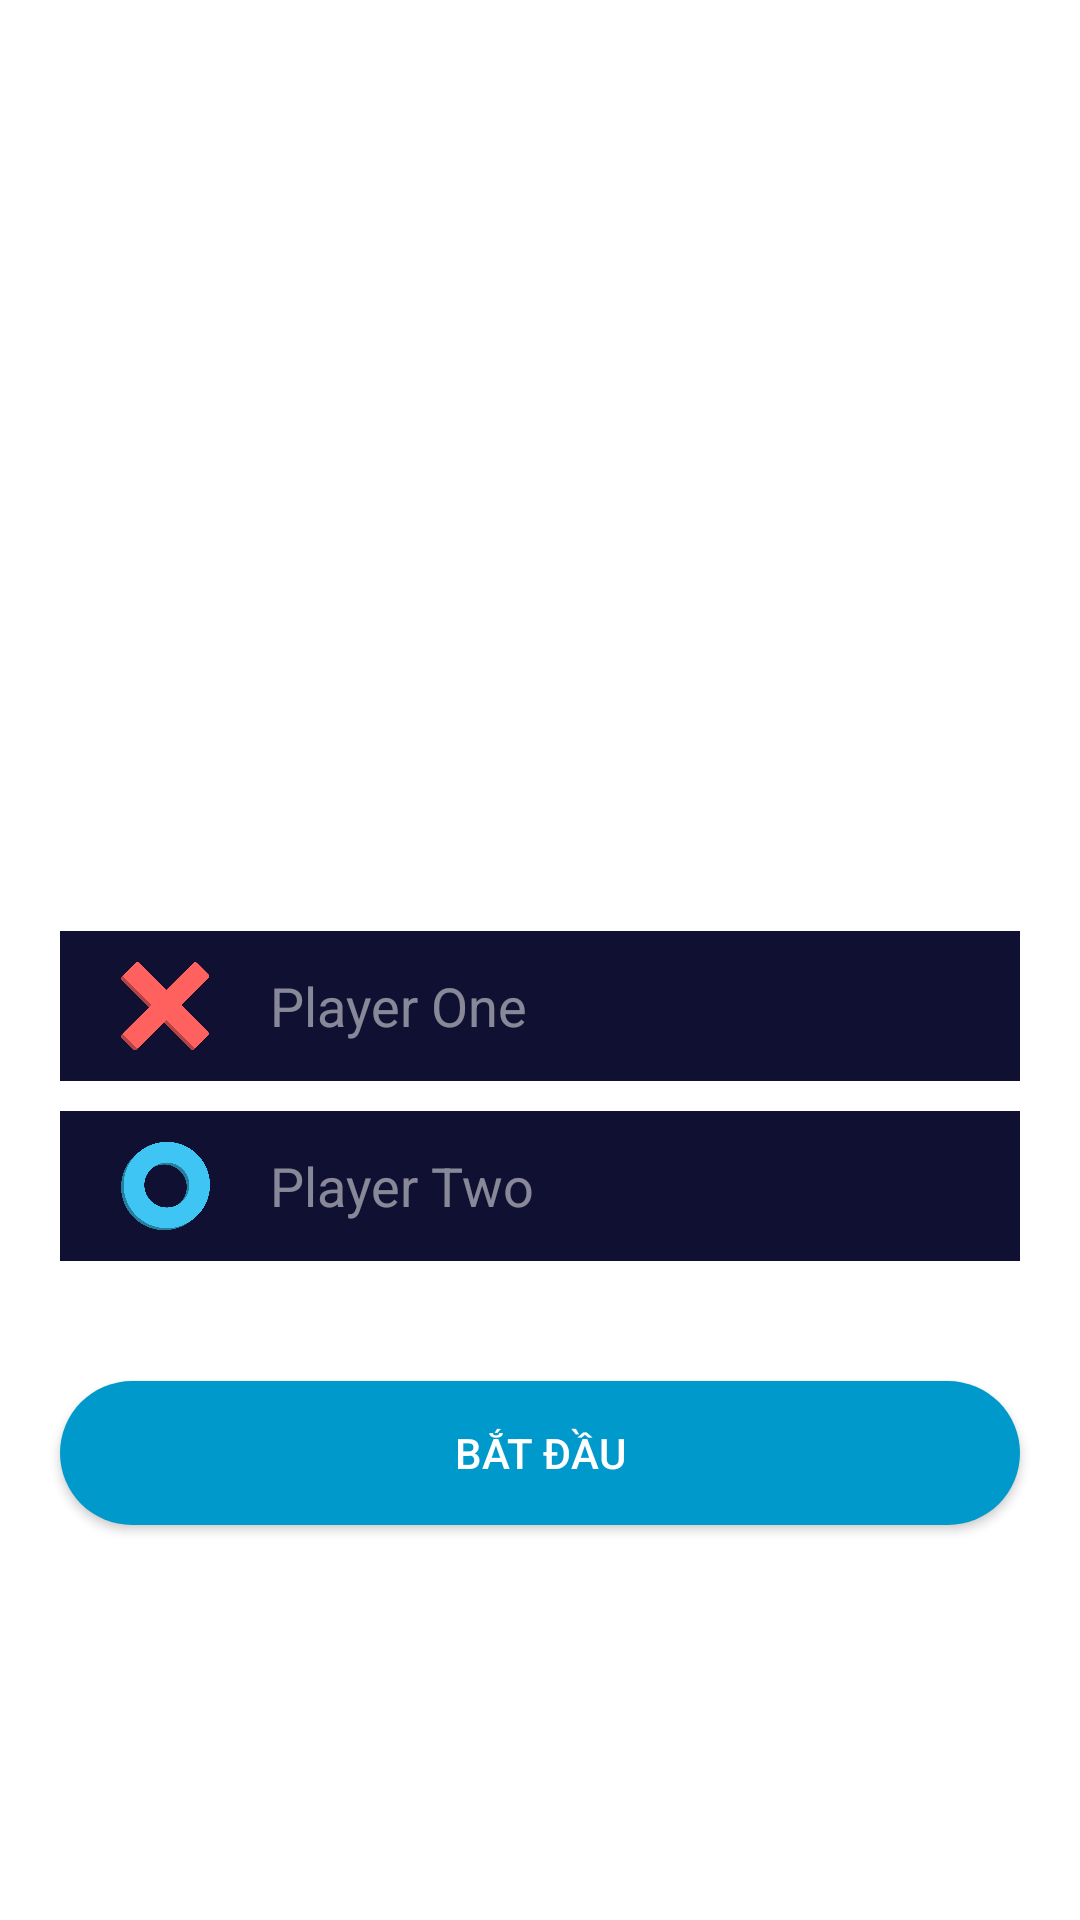

Where to tap for icons on this 1080*1920 app screen, as point (x, y):
circle: point (165, 1186)
cross: point (165, 1006)
